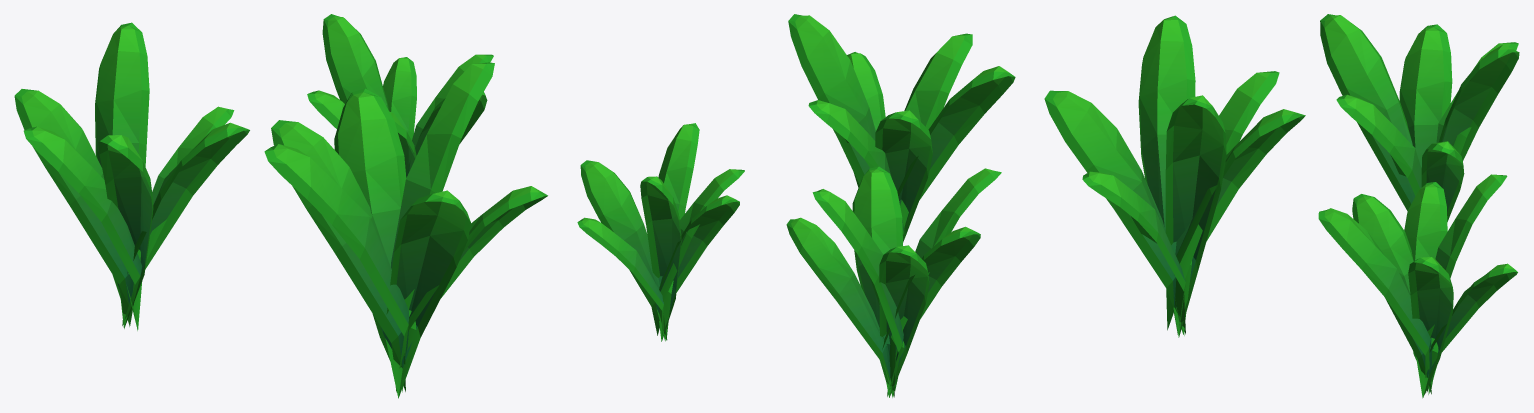
The model's file is crop_carrot_stage2.glb.
The picture shows the model from 3 angles, left to right: view 1: azimuth 30°, elevation 25°; view 2: azimuth 150°, elevation 25°; view 3: azimuth 270°, elevation 25°; orthographic projection. The views are drawn at different scales.
Parts seen in each view (by area): view 1: crop_carrot_stage2; view 2: crop_carrot_stage2; view 3: crop_carrot_stage2.
Boxes of the visible parts, x1=… form: crop_carrot_stage2: x1=14, y1=14, x2=547, y2=398; crop_carrot_stage2: x1=577, y1=14, x2=1015, y2=397; crop_carrot_stage2: x1=1044, y1=14, x2=1519, y2=398.
Size of the model in its own units: 0.3912 by 0.24 by 0.3703.
Materials: 1 (1 with a texture image).
